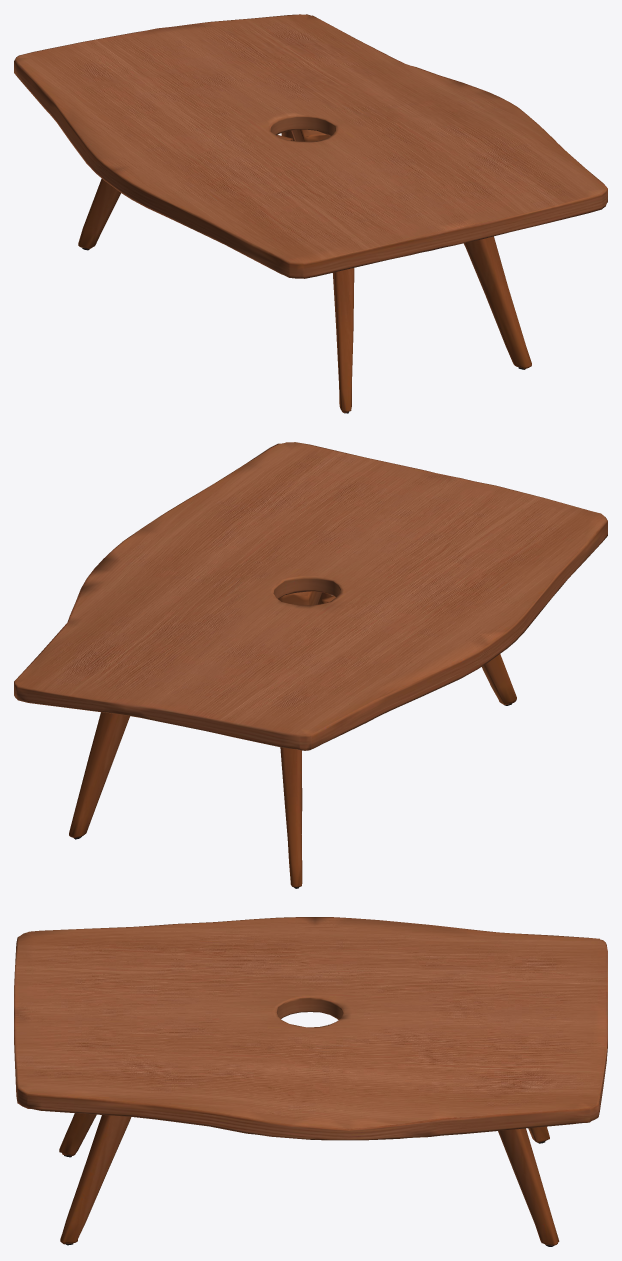
The model's file is table.glb.
3 renders of one model, top to bottom at view 1: azimuth 30°, elevation 25°; view 2: azimuth 150°, elevation 25°; view 3: azimuth 270°, elevation 25°, orthographic. The views are drawn at different scales.
Visible parts, largest first — view 1: tripo_node_5faaef5e-68d8-44e2-9498-c51ca3b24a9a; view 2: tripo_node_5faaef5e-68d8-44e2-9498-c51ca3b24a9a; view 3: tripo_node_5faaef5e-68d8-44e2-9498-c51ca3b24a9a.
Part boxes in pixels (x1,y1,x2,y2): tripo_node_5faaef5e-68d8-44e2-9498-c51ca3b24a9a: (14,14,607,413); tripo_node_5faaef5e-68d8-44e2-9498-c51ca3b24a9a: (14,442,607,888); tripo_node_5faaef5e-68d8-44e2-9498-c51ca3b24a9a: (14,917,607,1246).
Size of the model in its own units: 0.7598 by 0.3457 by 0.998.
1 material, 1 textured.
